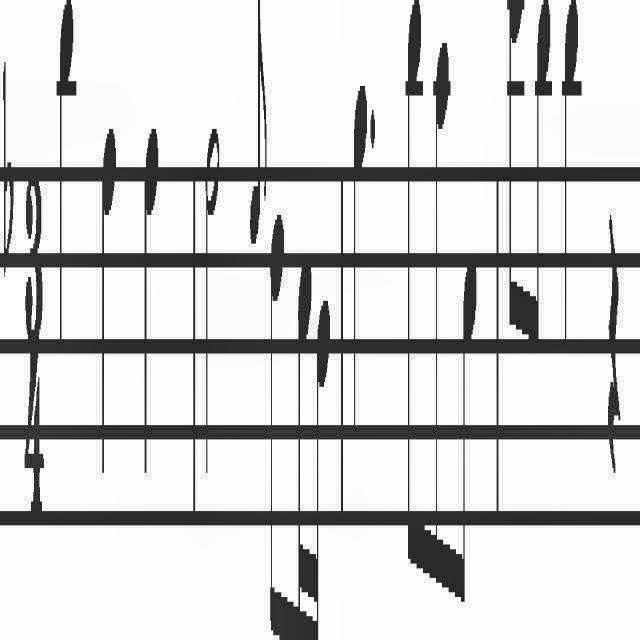Bemol: (2, 56, 16, 290)
Eighth-note: (403, 0, 424, 572), (431, 37, 451, 616), (454, 250, 478, 624), (528, 0, 552, 358), (268, 205, 286, 640), (502, 1, 524, 340)
Half-note: (203, 114, 220, 486)
Quarter-note: (99, 118, 118, 494), (142, 124, 160, 488), (352, 78, 368, 446), (58, 0, 74, 358), (562, 0, 578, 344)
Quarter-rest: (608, 205, 622, 495)
Sixteenth-note: (310, 286, 330, 640), (293, 243, 310, 640)
